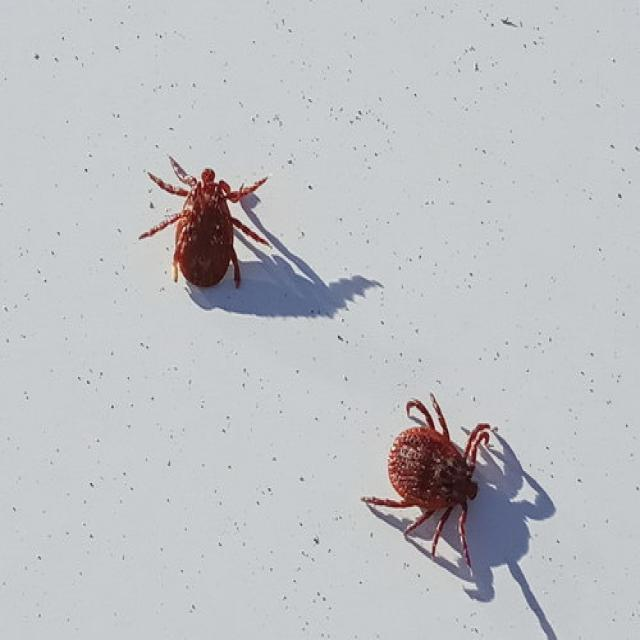Dermacentor Reticulatus-F: (361, 394, 492, 579)
